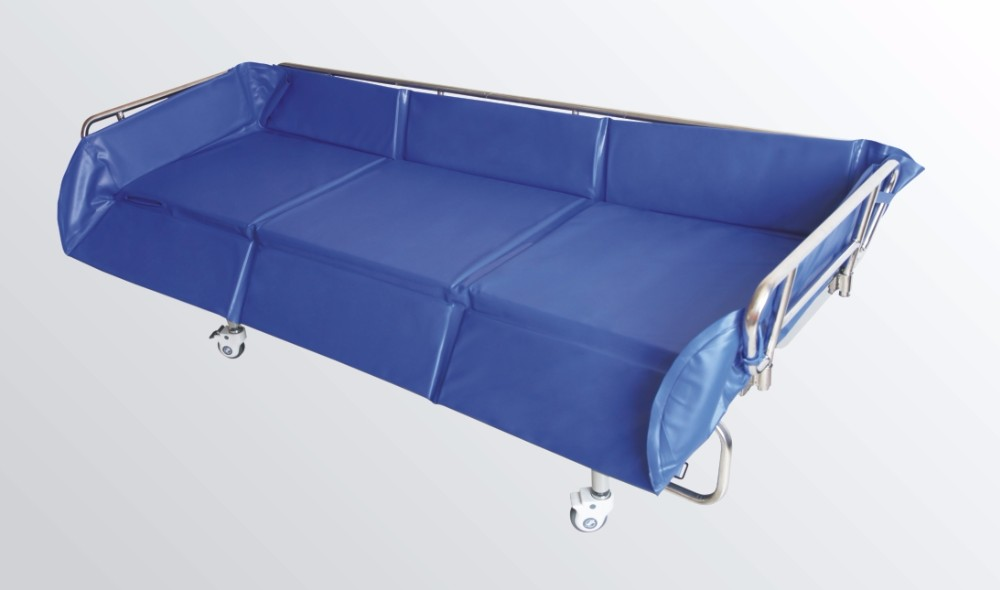trolley_bed: (50, 60, 909, 539)
